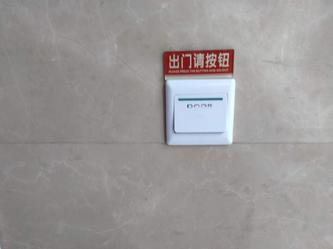switch: (171, 90, 230, 137)
